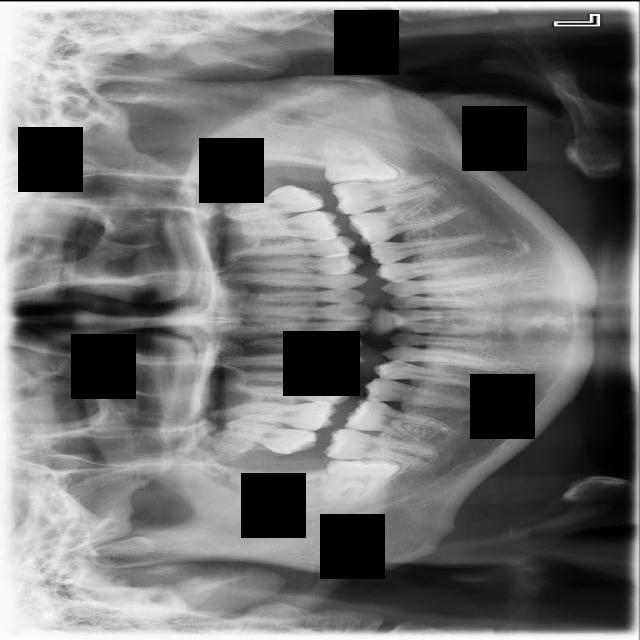73: (594, 38, 598, 46)
BioHorizons Implant: (201, 179, 325, 228)
Biomet 3i Implant: (318, 130, 399, 185)
Blue Sky Bio Implant: (330, 170, 442, 216)
Caries: (215, 417, 319, 458)
Implant: (322, 425, 436, 469)
Keystone Dental Implant: (316, 453, 402, 506)
